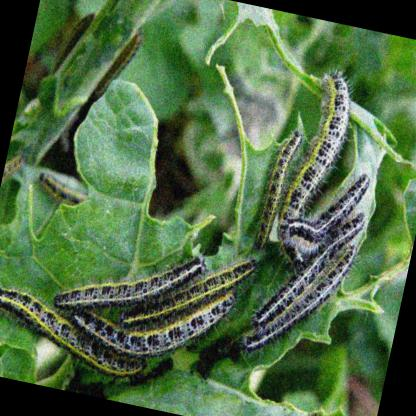pieris: (238, 236, 360, 350), (278, 64, 350, 229), (71, 297, 236, 360), (51, 256, 205, 309)
